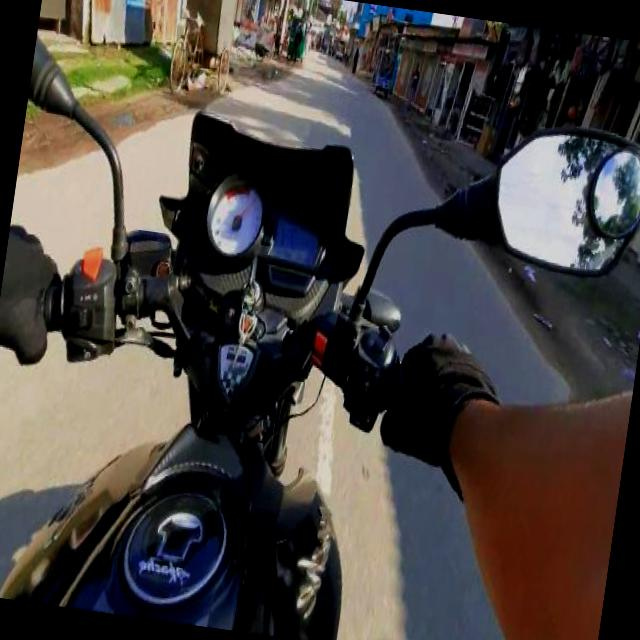motorcycle: (0, 50, 640, 640), (372, 46, 398, 98), (287, 15, 311, 61), (335, 39, 347, 62)
